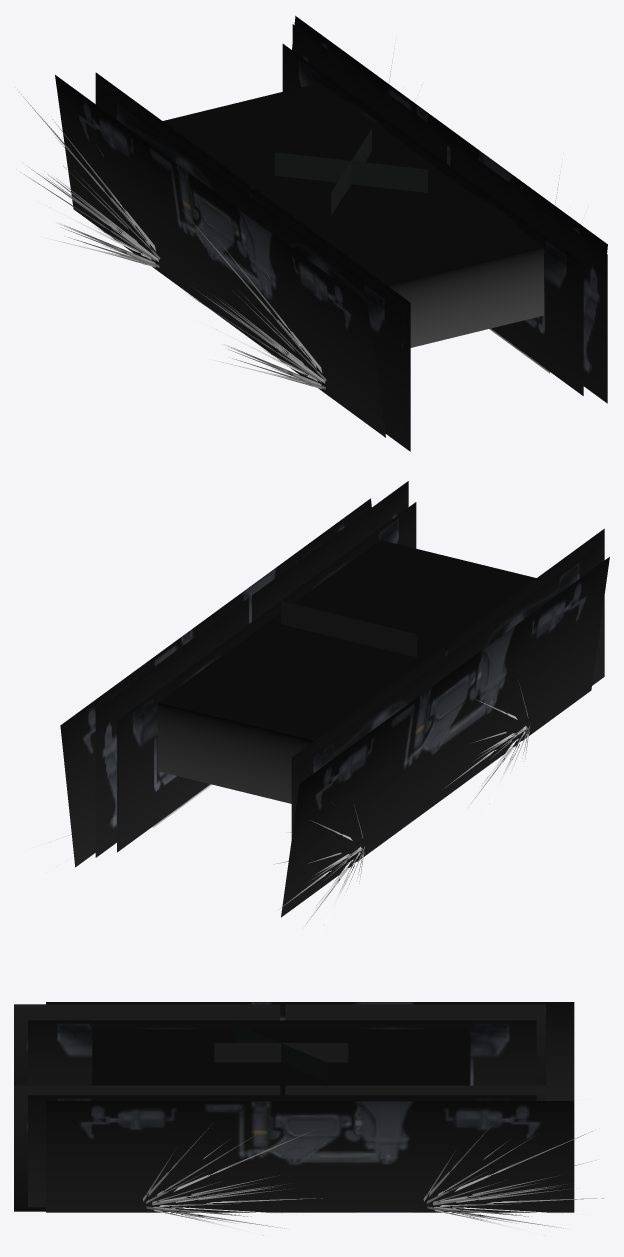
The model's file is UV_TRACK_LOWD4.glb.
3 renders of one model, top to bottom at view 1: azimuth 30°, elevation 25°; view 2: azimuth 150°, elevation 25°; view 3: azimuth 270°, elevation 25°, orthographic. The views are drawn at different scales.
Parts seen in each view (by area): view 1: obj11, FR1, FR0; view 2: obj11, FR1, FR0; view 3: obj11, FL1, FL0.
Boxes of the visible parts, bbox=[...] form: obj11: bbox=[55, 16, 607, 451]; FR1: bbox=[19, 92, 160, 267]; FR0: bbox=[182, 210, 326, 389]; obj11: bbox=[60, 481, 609, 917]; FR1: bbox=[273, 803, 364, 943]; FR0: bbox=[442, 681, 530, 821]; obj11: bbox=[14, 1002, 574, 1212]; FL1: bbox=[423, 1121, 603, 1241]; FL0: bbox=[142, 1122, 322, 1240].
Size of the model in its own units: 6.84 by 3.05 by 11.57.
Materials: 27 (26 with a texture image).
